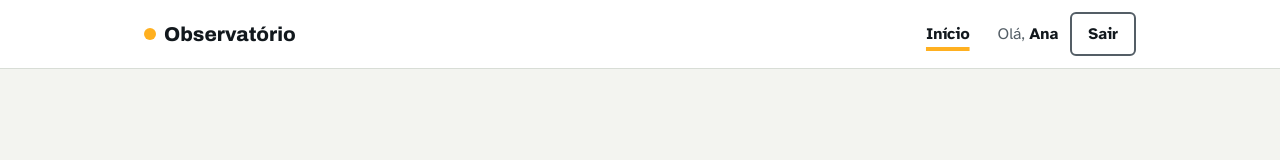
SiteHeader › keeps the session and announces it when sign-out fails
Click the button "Sair": (1103, 34) [1070, 12, 1136, 56]
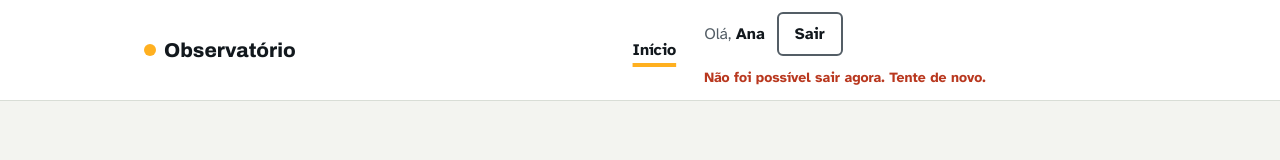
Expected: the button "Sair" is shown, [777, 12, 843, 56]
Expected: the message reads "Não foi possível sair agora. Tente de novo.", [704, 69, 986, 86]
